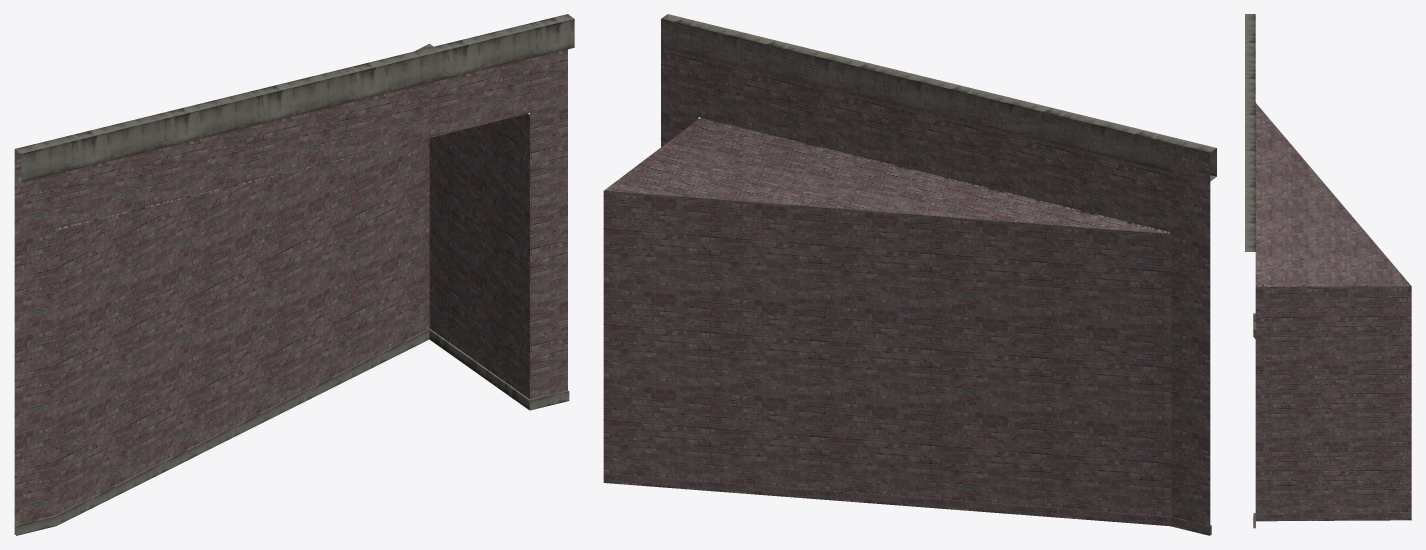
Rendered from Wall_D_Brick_TriangleIn_6x.FBX.
The picture shows the model from 3 angles, left to right: view 1: azimuth 30°, elevation 25°; view 2: azimuth 150°, elevation 25°; view 3: azimuth 270°, elevation 25°; orthographic projection. The views are drawn at different scales.
Visible parts, largest first — view 1: Wall_D_Brick_TriangleIn_6x; view 2: Wall_D_Brick_TriangleIn_6x; view 3: Wall_D_Brick_TriangleIn_6x.
Boxes of the visible parts, x1,y1,x2,y2 form: Wall_D_Brick_TriangleIn_6x: (14, 14, 574, 535); Wall_D_Brick_TriangleIn_6x: (603, 14, 1216, 535); Wall_D_Brick_TriangleIn_6x: (1245, 14, 1411, 528).
Size of the model in its own units: 600 by 400 by 197.
